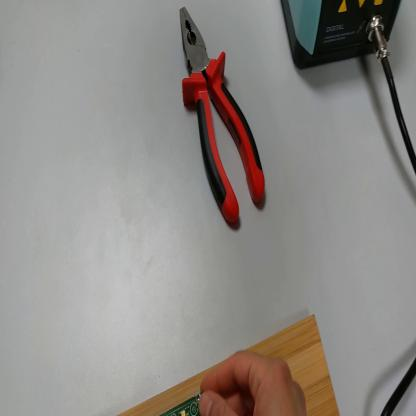hand: (199, 352, 309, 414)
low voltage board: (160, 393, 204, 416)
pliers: (178, 3, 267, 231)
welder station: (282, 2, 403, 72)
working area: (118, 316, 339, 416)
